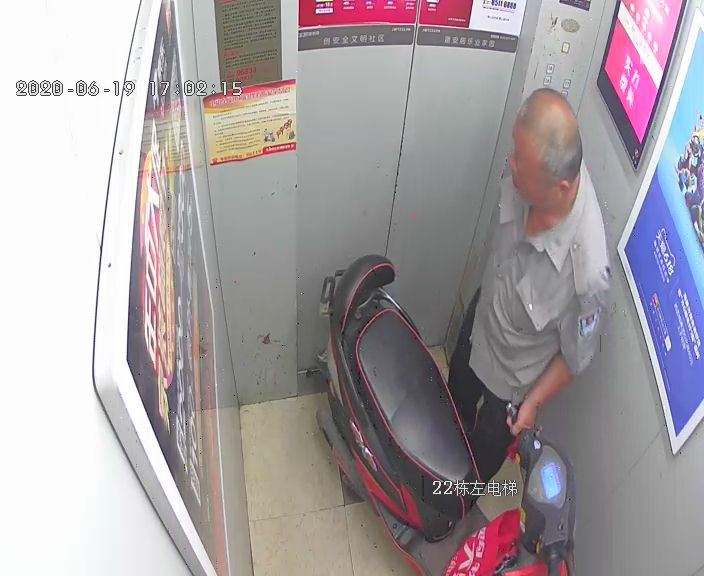Electric-bicycle: (321, 255, 576, 571)
